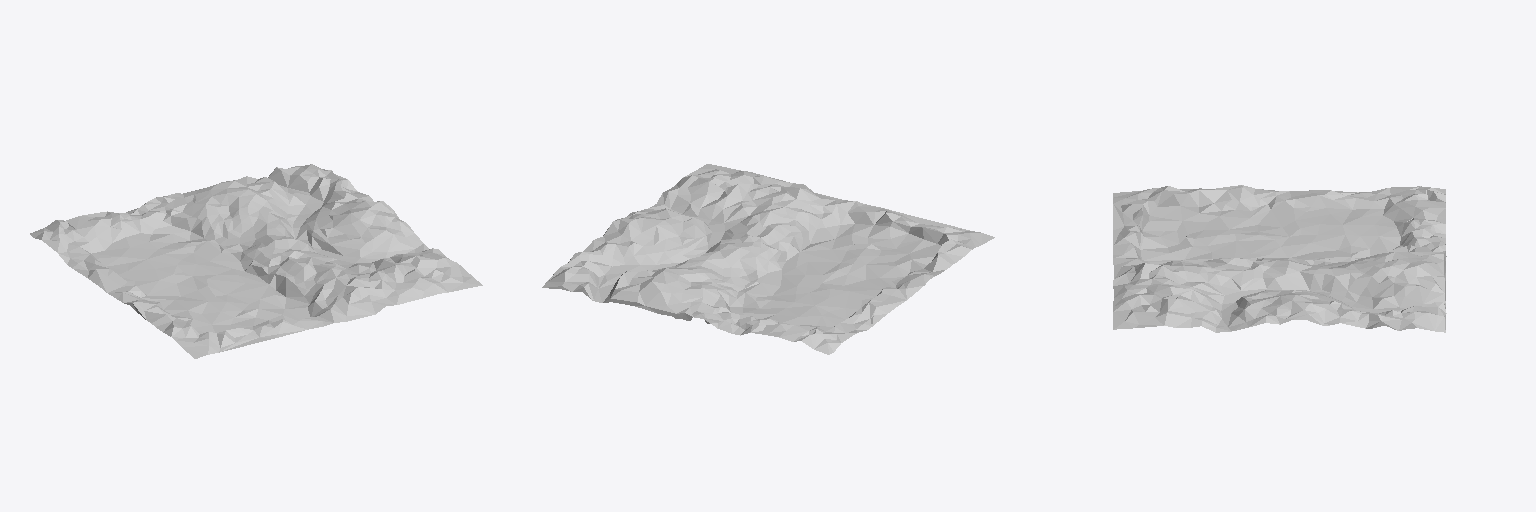
File: TerrainFarmLand.obj
3 renders of one model, left to right at view 1: azimuth 30°, elevation 25°; view 2: azimuth 150°, elevation 25°; view 3: azimuth 270°, elevation 25°, orthographic.
Parts seen in each view (by area): view 1: Terrain.001; view 2: Terrain.001; view 3: Terrain.001.
Boxes of the visible parts, x1,y1,x2,y2 form: Terrain.001: [30, 164, 482, 358]; Terrain.001: [542, 164, 994, 354]; Terrain.001: [1113, 185, 1446, 332].
Size of the model in its own units: 302 by 27.5 by 301.